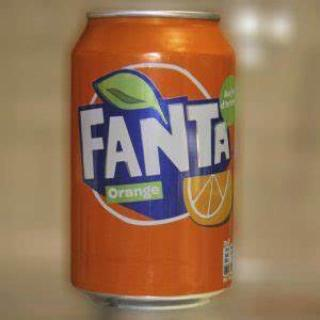Anorganik: (67, 5, 240, 309)
